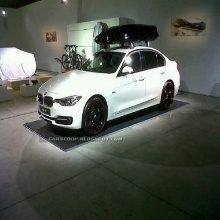no damage: (36, 46, 182, 135)
